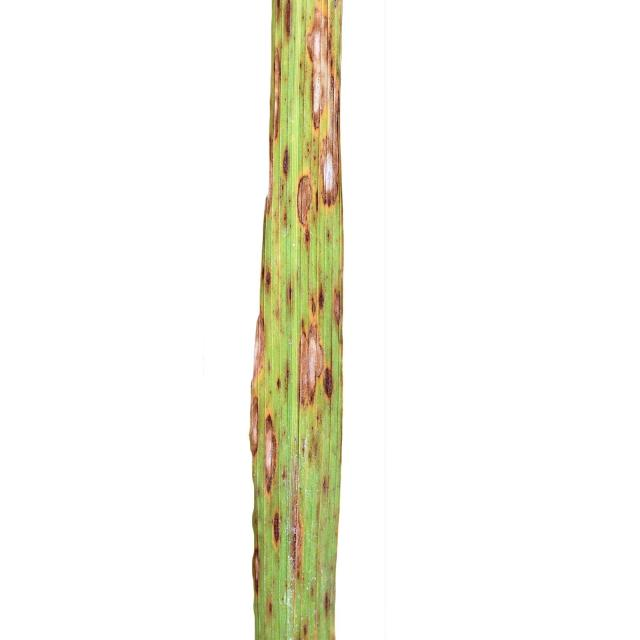Leaf blast: (233, 0, 379, 640)
